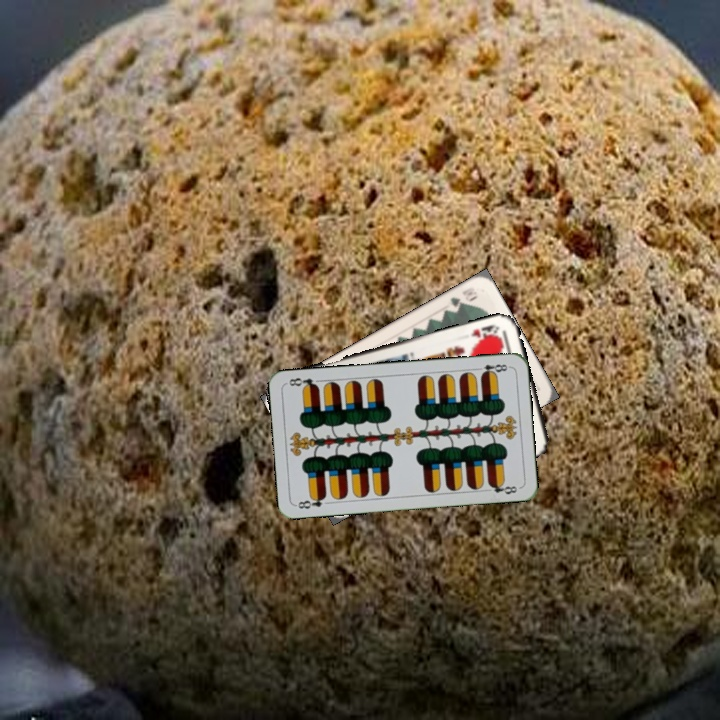E8: (471, 360, 512, 378), (293, 492, 329, 511)
G10: (446, 283, 479, 311)
HK: (466, 321, 502, 343)
